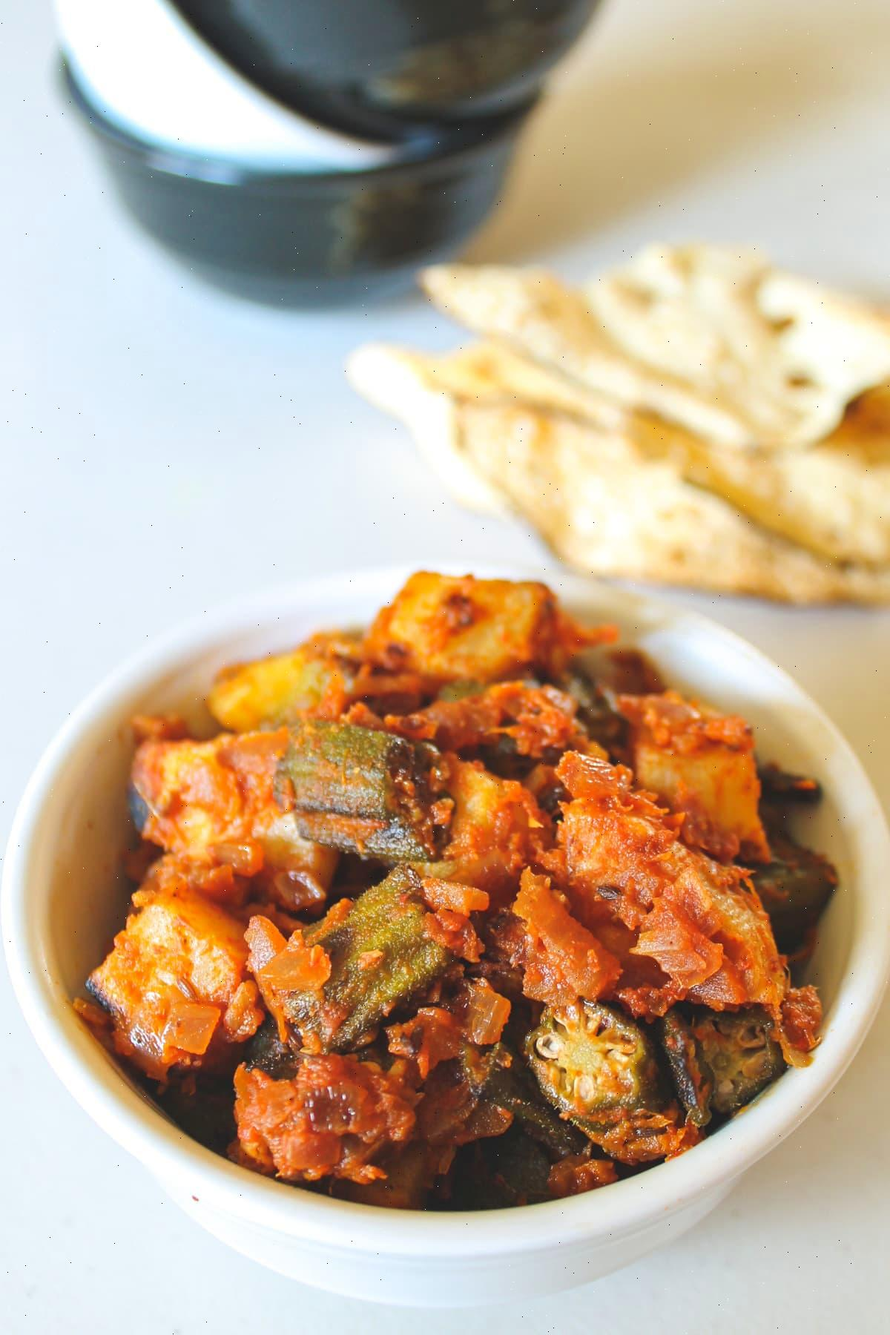bhindi: (176, 646, 755, 1123)
